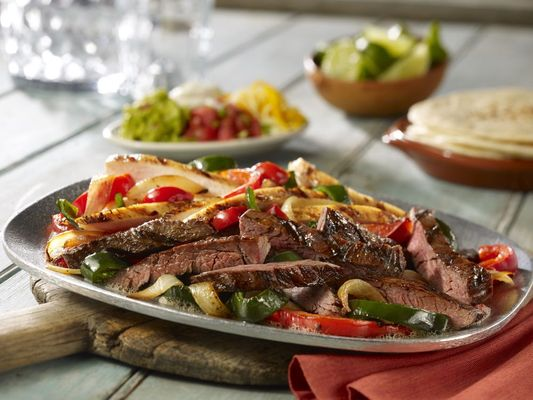pizza: (154, 0, 217, 76)
soup: (382, 85, 533, 192)
sushi: (100, 79, 310, 166), (303, 20, 451, 118)
